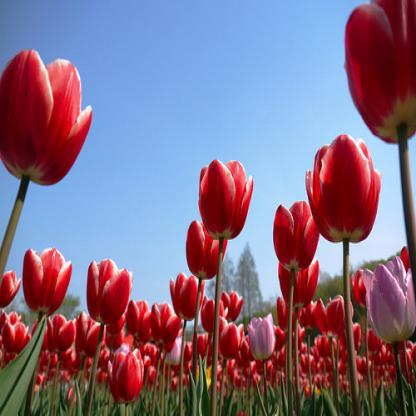TULIP: (6, 27, 410, 396)
